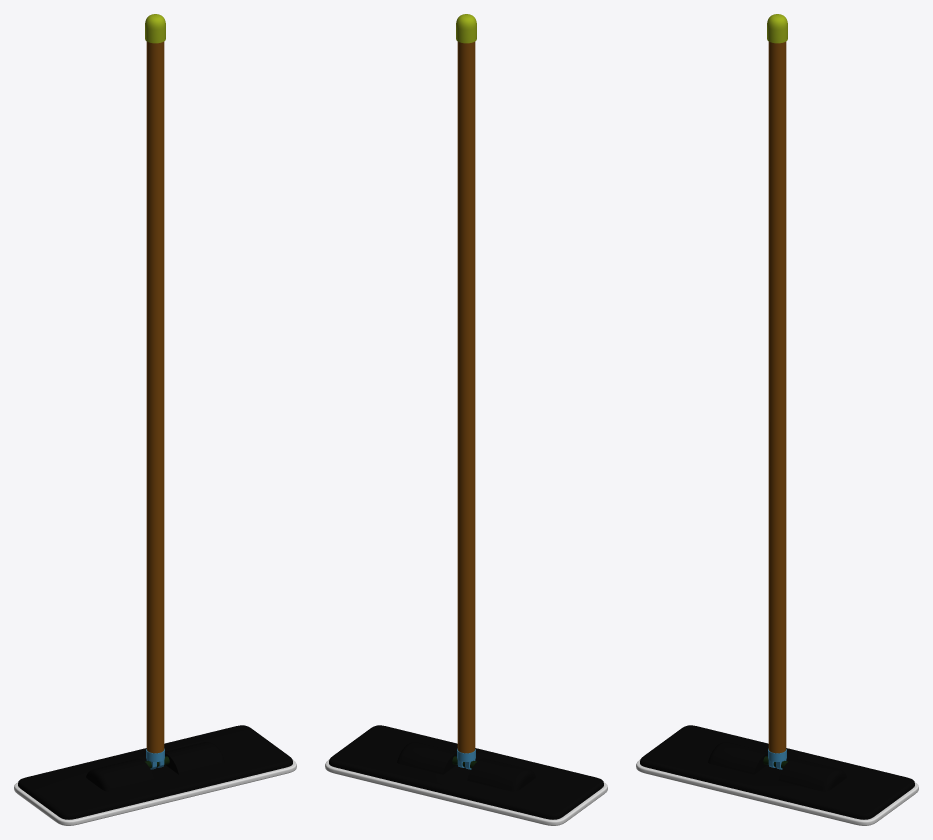
The model's file is Mopa (1).fbx.
3 renders of one model, left to right at view 1: azimuth 30°, elevation 25°; view 2: azimuth 150°, elevation 25°; view 3: azimuth 330°, elevation 25°, orthographic.
Parts seen in each view (by area): view 1: Palo, Mopa; view 2: Palo, Mopa; view 3: Palo, Mopa.
Part boxes in pixels (x1=…): Palo: x1=145, y1=14, x2=165, y2=769; Mopa: x1=14, y1=725, x2=296, y2=825; Palo: x1=456, y1=14, x2=476, y2=769; Mopa: x1=325, y1=725, x2=607, y2=825; Palo: x1=767, y1=14, x2=787, y2=769; Mopa: x1=636, y1=725, x2=918, y2=825.
Bounding box in the file's own units: 0.5 × 1.53 × 0.2.
